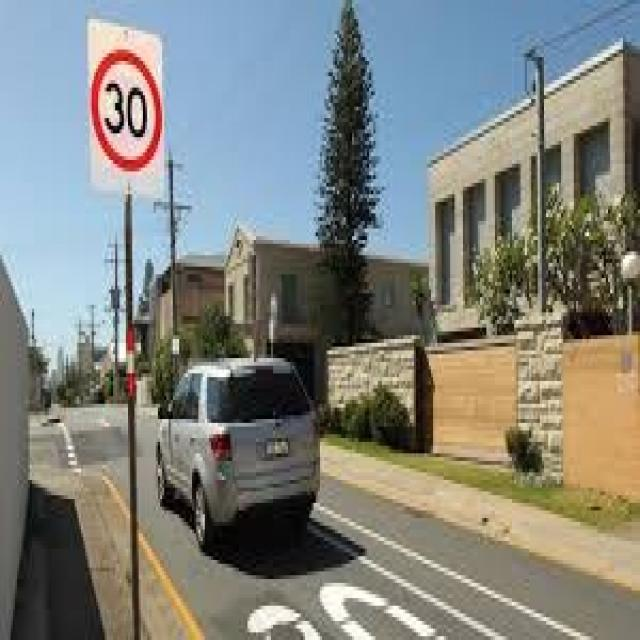speed_limit_30: (90, 42, 169, 189)
